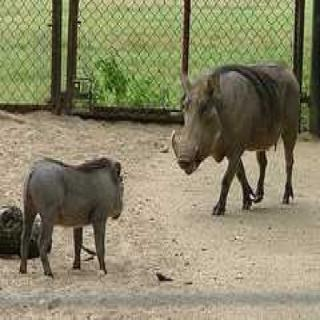Pig: (160, 54, 320, 188), (15, 132, 127, 274)
